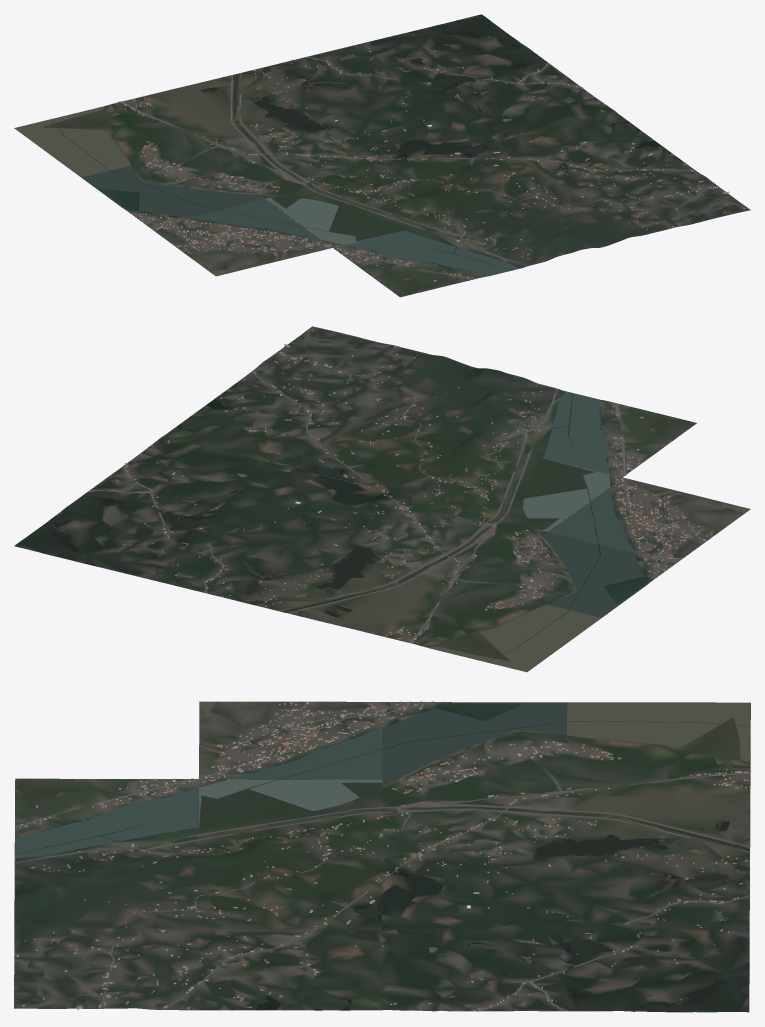
The picture shows the model from 3 angles, top to bottom: view 1: azimuth 30°, elevation 25°; view 2: azimuth 150°, elevation 25°; view 3: azimuth 270°, elevation 25°; orthographic projection. The views are drawn at different scales.
Parts seen in each view (by area): view 1: ground, water, buildings, roads; view 2: ground, water, buildings, roads; view 3: ground, water, buildings, roads.
Boxes of the visible parts, box(x1,y1,x2,y2) form: ground: box(14, 14, 750, 297); water: box(14, 18, 702, 276); buildings: box(119, 36, 744, 281); roads: box(121, 56, 712, 279); ground: box(14, 326, 750, 670); water: box(33, 352, 647, 671); buildings: box(61, 329, 724, 643); roads: box(88, 352, 665, 642); ground: box(14, 701, 750, 1012); water: box(15, 702, 750, 1012); buildings: box(16, 701, 750, 1011); roads: box(14, 701, 750, 1011).
Size of the model in its own units: 5619 by 102 by 5620.
